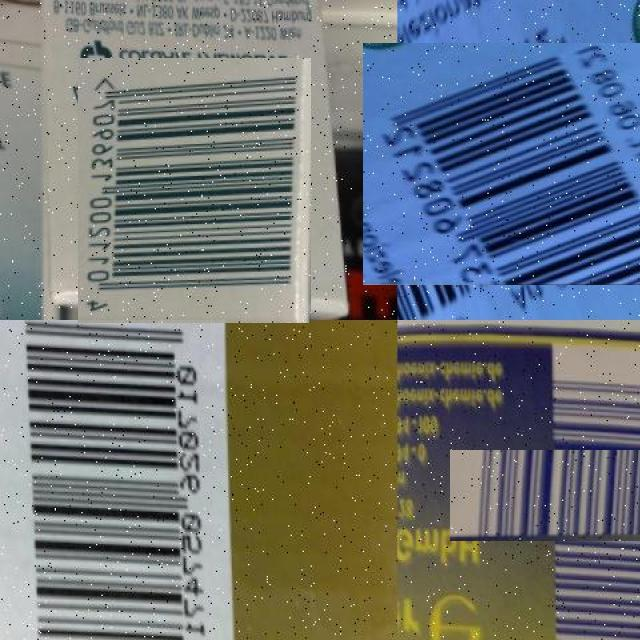Barcode: (381, 27, 640, 303), (16, 320, 233, 640), (69, 66, 319, 315), (499, 401, 640, 591)
